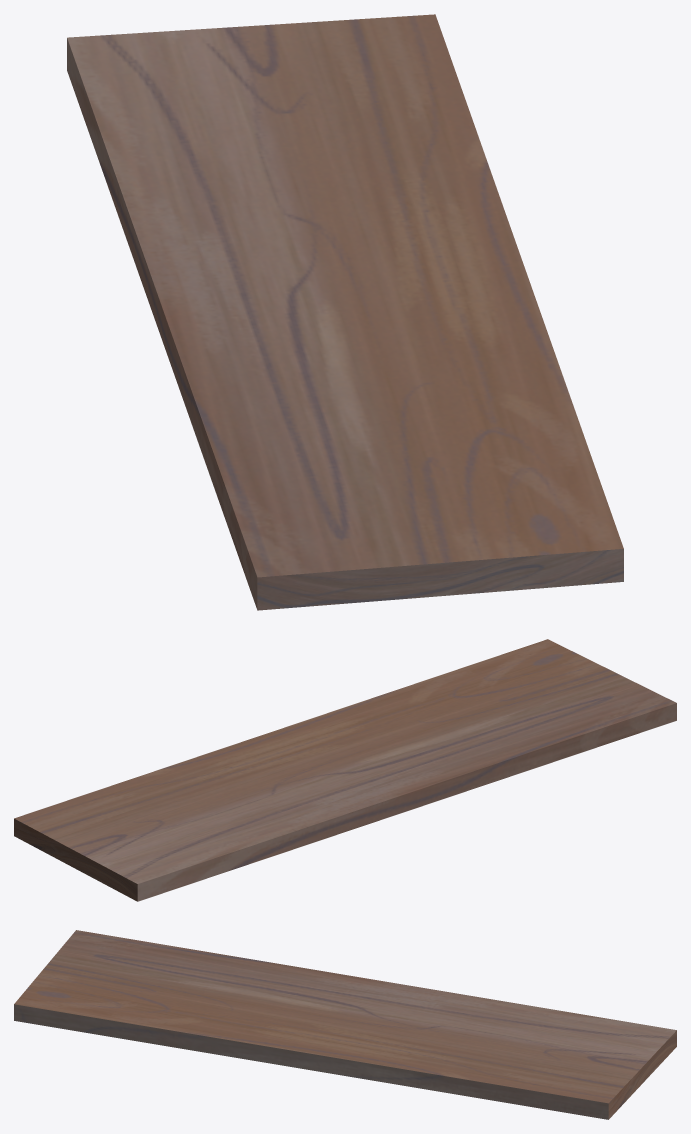
The model's file is plank_019.fbx.
3 views of the same model, one above another, from view 1: azimuth 30°, elevation 25°; view 2: azimuth 150°, elevation 25°; view 3: azimuth 270°, elevation 25° (orthographic). The views are drawn at different scales.
Parts seen in each view (by area): view 1: plank.019; view 2: plank.019; view 3: plank.019.
Boxes of the visible parts, bbox=[...] form: plank.019: bbox=[67, 14, 623, 610]; plank.019: bbox=[14, 639, 676, 901]; plank.019: bbox=[14, 930, 676, 1119].
Bounding box in the file's own units: 22.38 × 0.9957 × 36.17.
